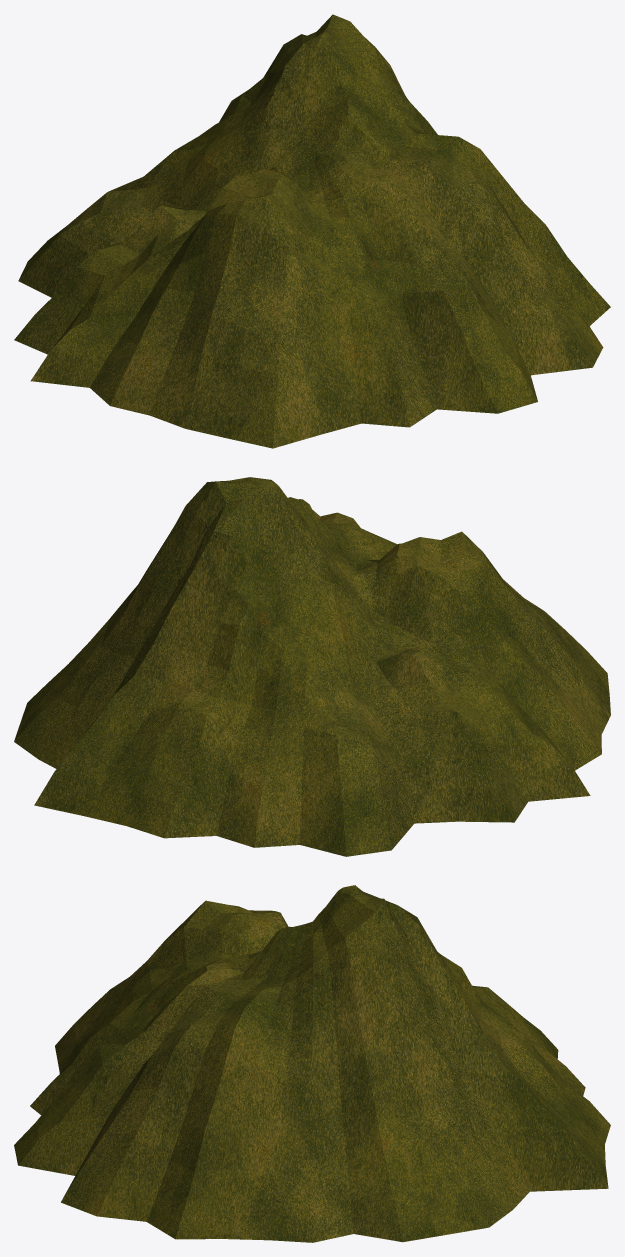
The model's file is sphagnum_hummock_v02.glb.
3 renders of one model, top to bottom at view 1: azimuth 30°, elevation 25°; view 2: azimuth 150°, elevation 25°; view 3: azimuth 270°, elevation 25°, orthographic.
Parts seen in each view (by area): view 1: sphagnum_hummock_v02; view 2: sphagnum_hummock_v02; view 3: sphagnum_hummock_v02.
Boxes of the visible parts, left/top/right/bottom form: sphagnum_hummock_v02: left=14, top=14, right=610, bottom=448; sphagnum_hummock_v02: left=14, top=477, right=610, bottom=856; sphagnum_hummock_v02: left=14, top=885, right=610, bottom=1242.
Size of the model in its own units: 0.6251 by 0.297 by 0.6265.
Materials: 1 (1 with a texture image).
